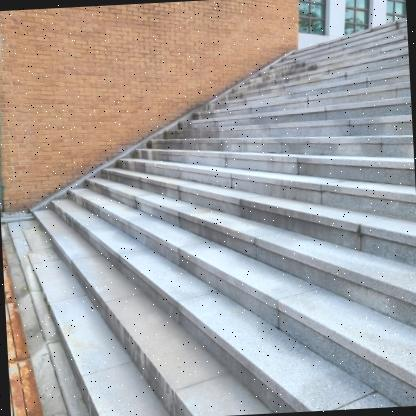stair: (12, 19, 416, 416)
